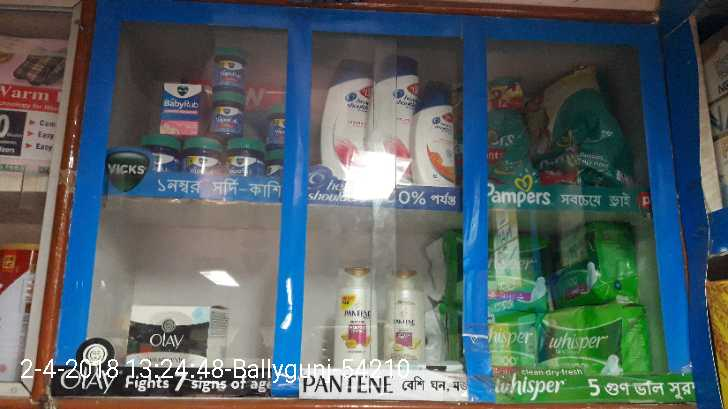vicks: (136, 46, 285, 177)
